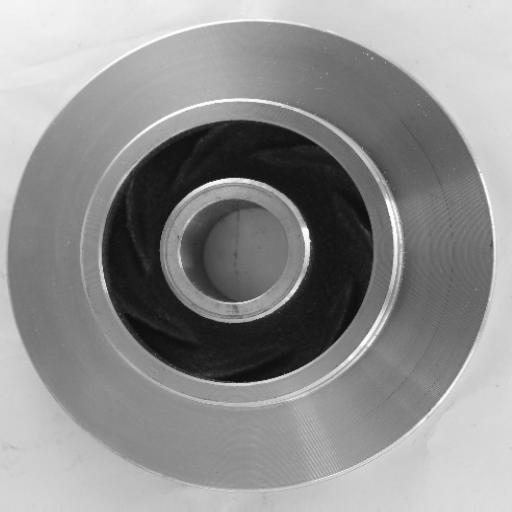polished_casting: (7, 19, 493, 493)
